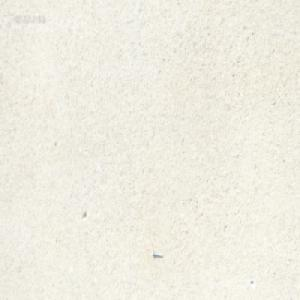Nail: (152, 250, 162, 258)
